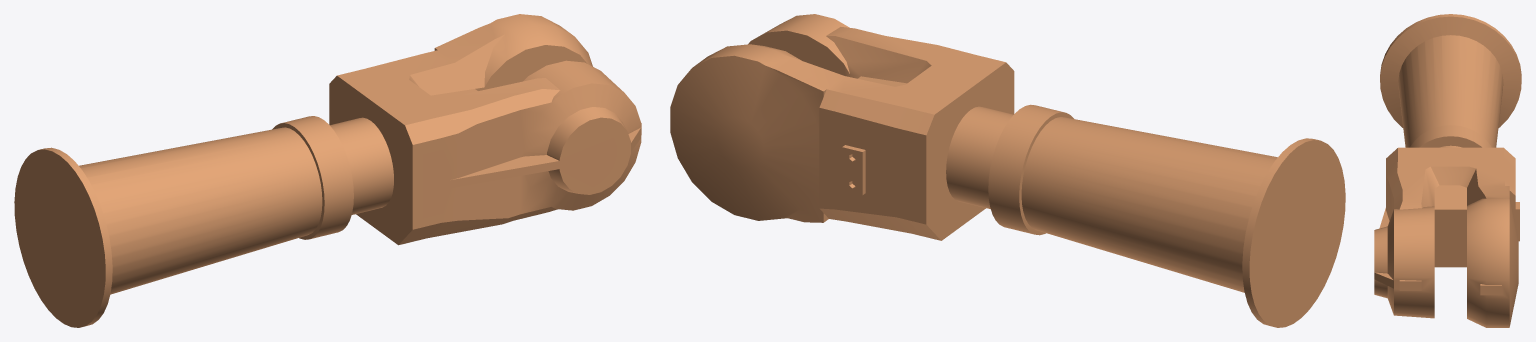
3 renders of one model, left to right at view 1: azimuth 30°, elevation 25°; view 2: azimuth 150°, elevation 25°; view 3: azimuth 270°, elevation 25°, orthographic. The views are drawn at different scales.
Visible parts, largest first — view 1: Link_4; view 2: Link_4; view 3: Link_4.
Part boxes in pixels (x1,y1,x2,y2): Link_4: (14,14,641,327); Link_4: (670,14,1345,327); Link_4: (1374,14,1521,327).
Bounding box in the file's own units: 0.573 × 0.1684 × 0.1617.
